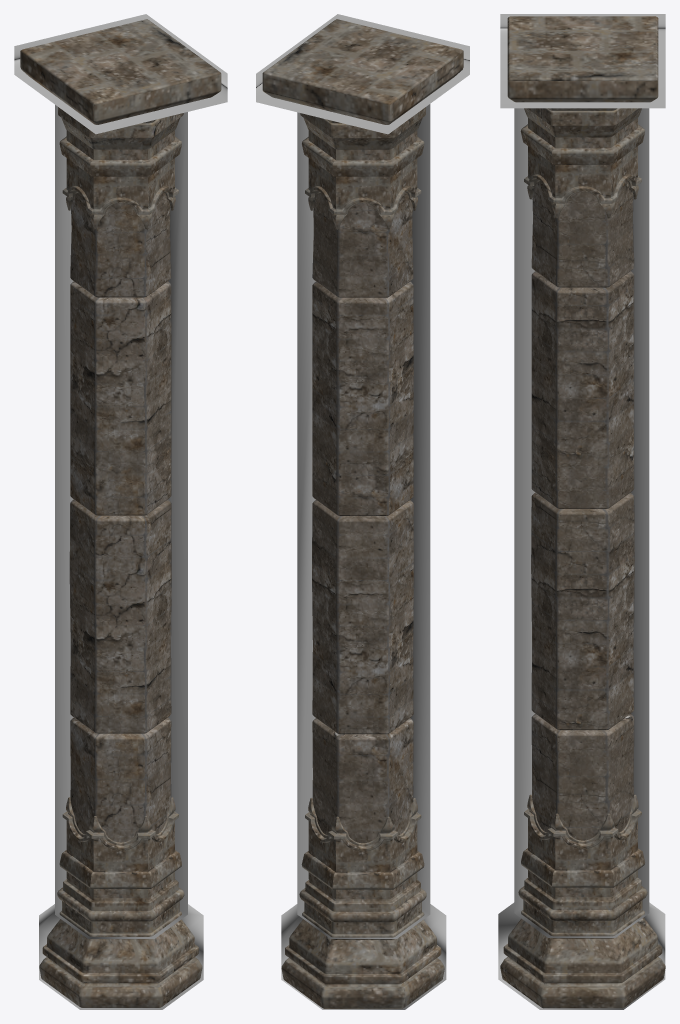
The model's file is SM_Pillar_01a.gltf.
The picture shows the model from 3 angles, left to right: view 1: azimuth 30°, elevation 25°; view 2: azimuth 150°, elevation 25°; view 3: azimuth 270°, elevation 25°; orthographic projection.
Parts seen in each view (by area): view 1: SM_Pillar_01a, SM_Pillar_01a_ConvexHulls; view 2: SM_Pillar_01a, SM_Pillar_01a_ConvexHulls; view 3: SM_Pillar_01a, SM_Pillar_01a_ConvexHulls.
Boxes of the visible parts, x1,y1,x2,y2 form: SM_Pillar_01a: (20, 19, 221, 1007); SM_Pillar_01a_ConvexHulls: (14, 14, 227, 1009); SM_Pillar_01a: (262, 19, 463, 1008); SM_Pillar_01a_ConvexHulls: (256, 14, 469, 1009); SM_Pillar_01a: (500, 16, 665, 1008); SM_Pillar_01a_ConvexHulls: (498, 14, 665, 1009).
Size of the model in its own units: 1.58 by 10.54 by 1.72.
3 materials, 2 textured.
